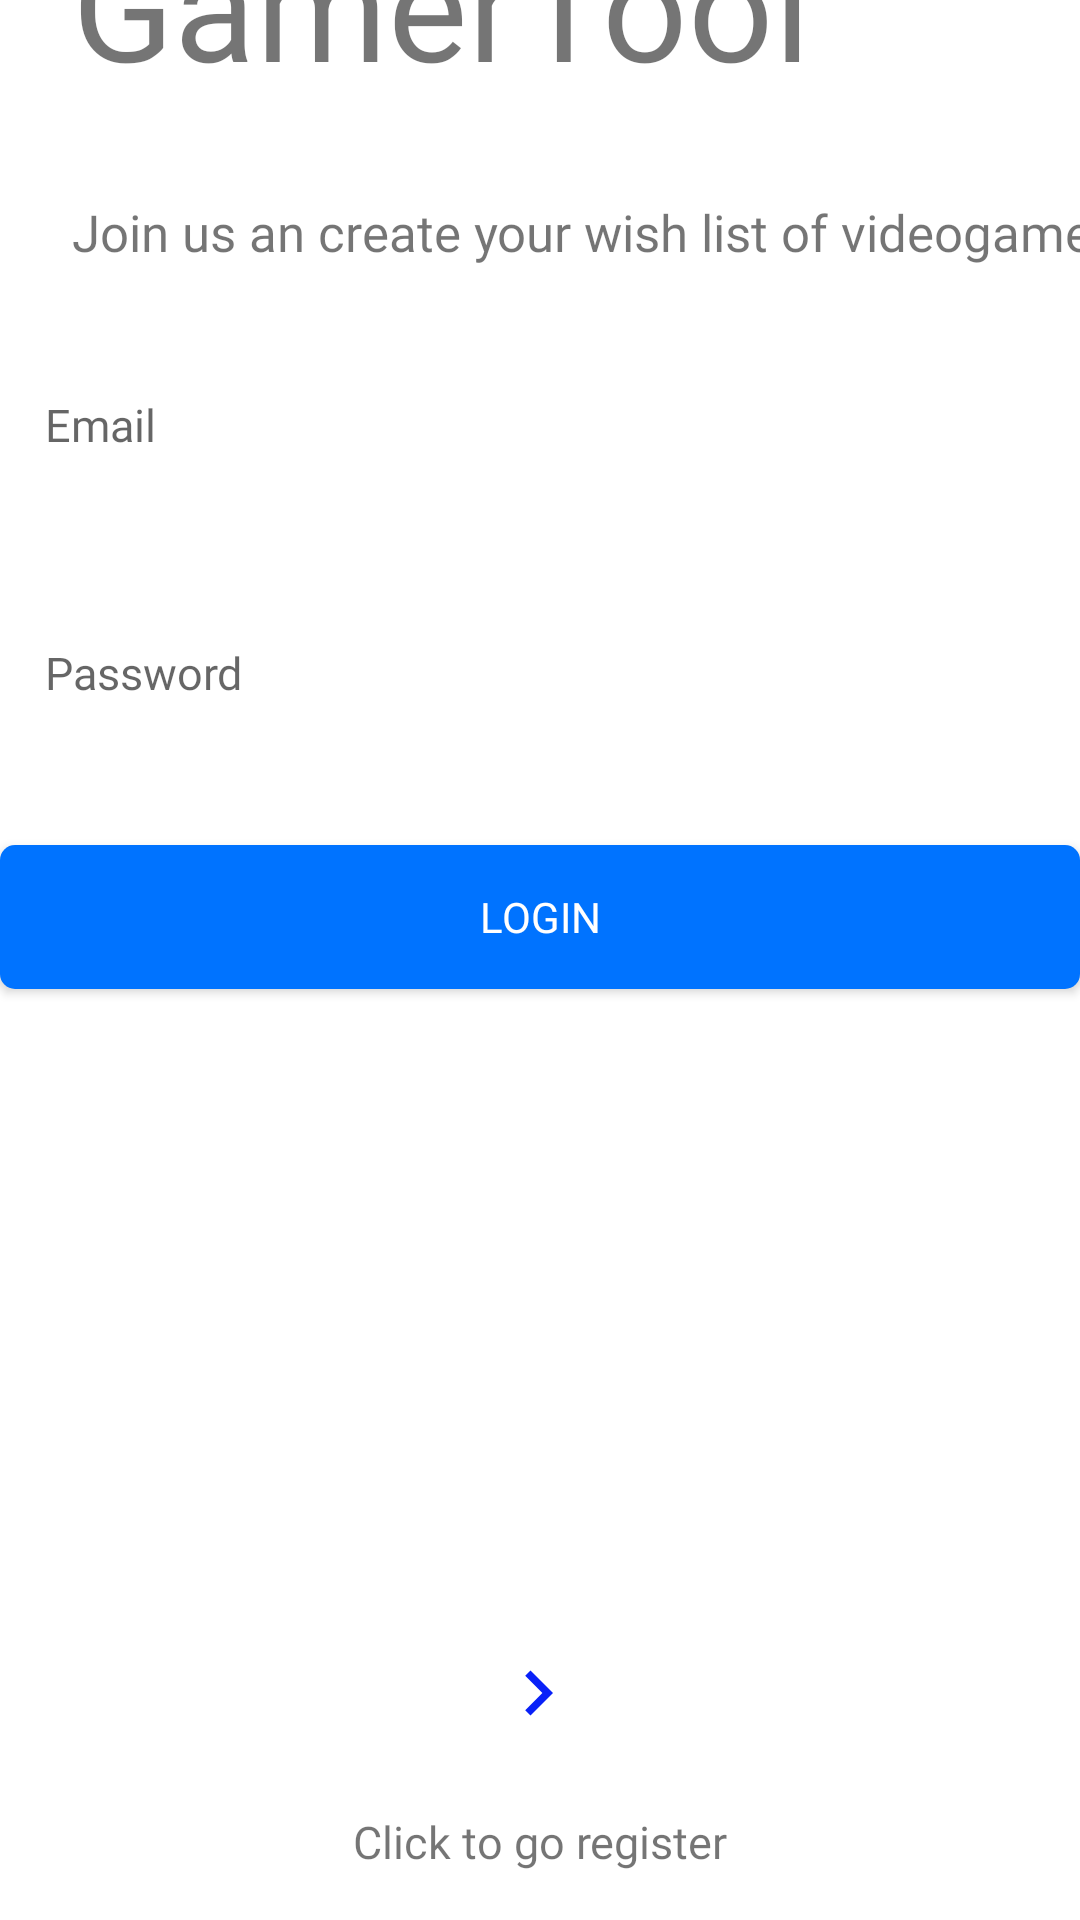

Icon click points for this 1080*1920 phone screenshot, format point (x, y):
arrow right: point (539, 1693)
